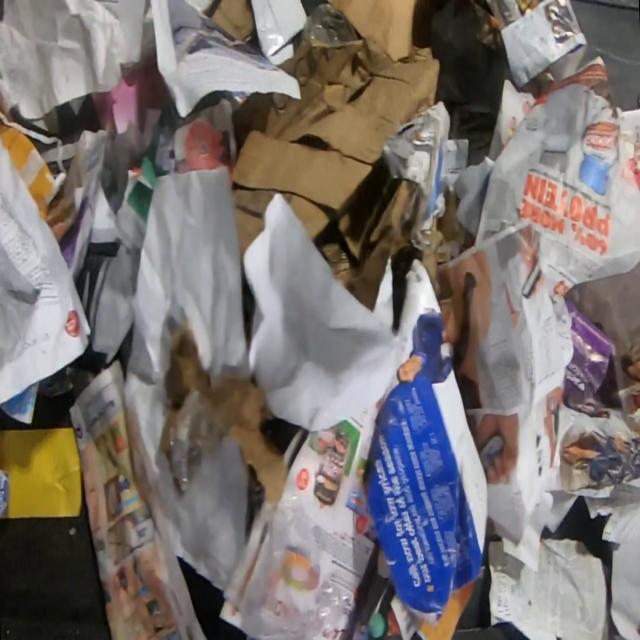cardboard: (228, 39, 441, 313), (161, 321, 289, 499), (329, 0, 416, 63), (210, 0, 256, 45)
rigid_plastic: (300, 3, 360, 46)
soft_plastic: (150, 385, 352, 640)
